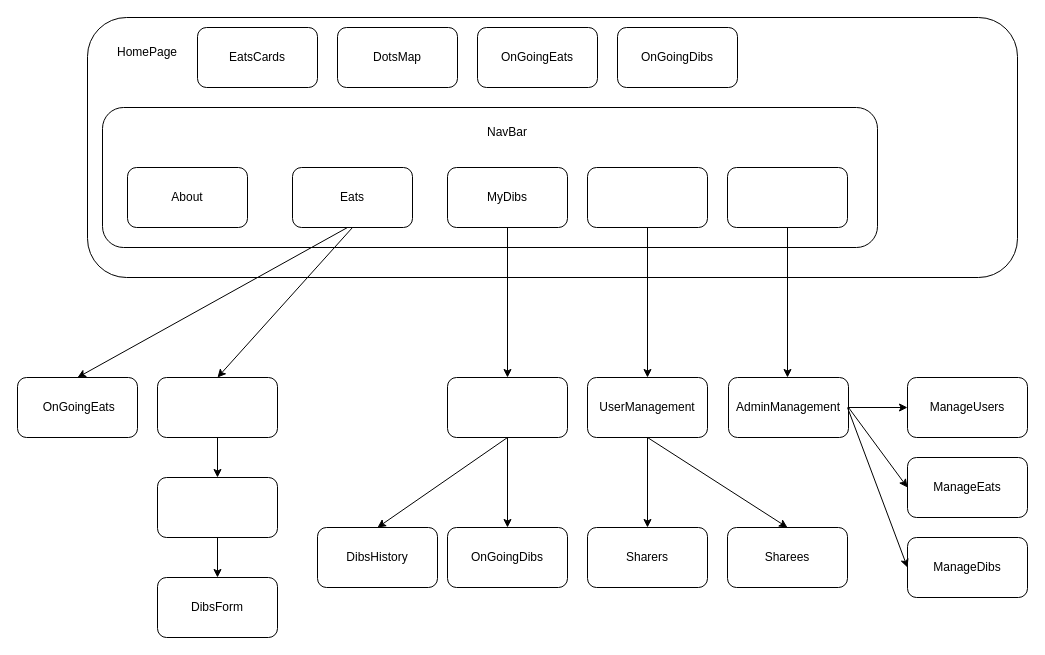
Some shapes in this 1045 by 655 pixel diagram are drawn without their labels. The shapes that lost their labels are listed below. From the top down, each one's centre as x and y in pixels, then its label:
[647,197]: UserAccount
[787,197]: Admin
[217,407]: EatsList
[507,407]: MyDibsList
[217,507]: EatsDetail
